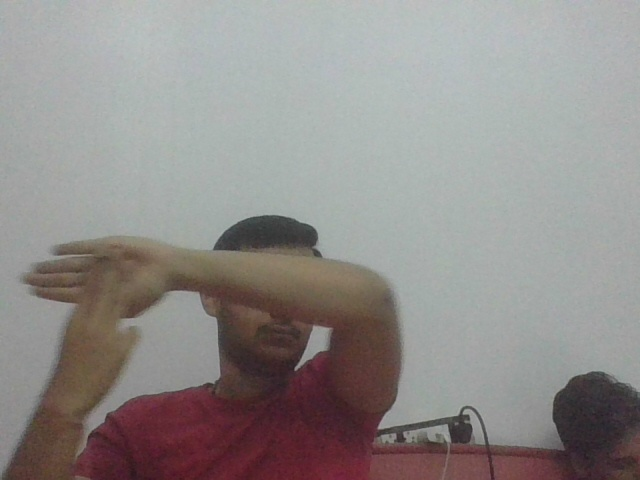M: (18, 230, 169, 387)
